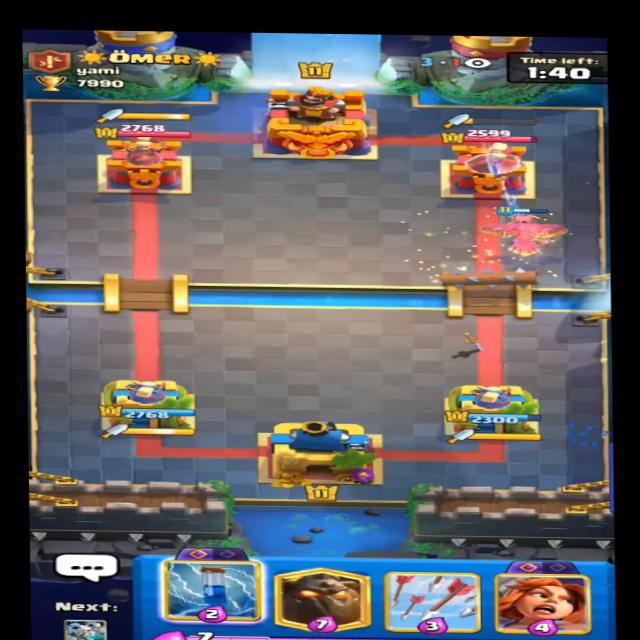log: (438, 263, 548, 294)
